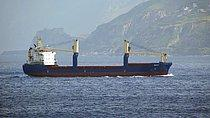Ship: (19, 32, 178, 83)
